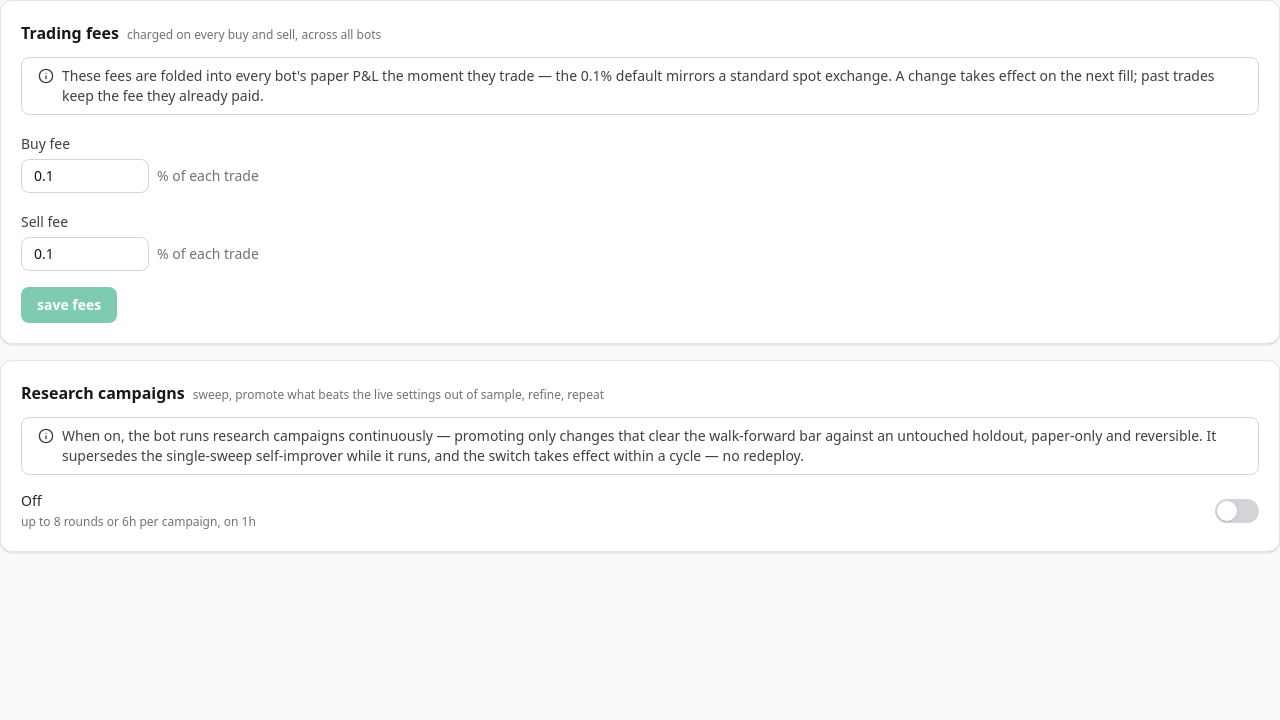
Test: SettingsScreen › toggles the research-campaign loop on
Click the switch named "Research campaigns": (1237, 511) [1215,499,1259,523]
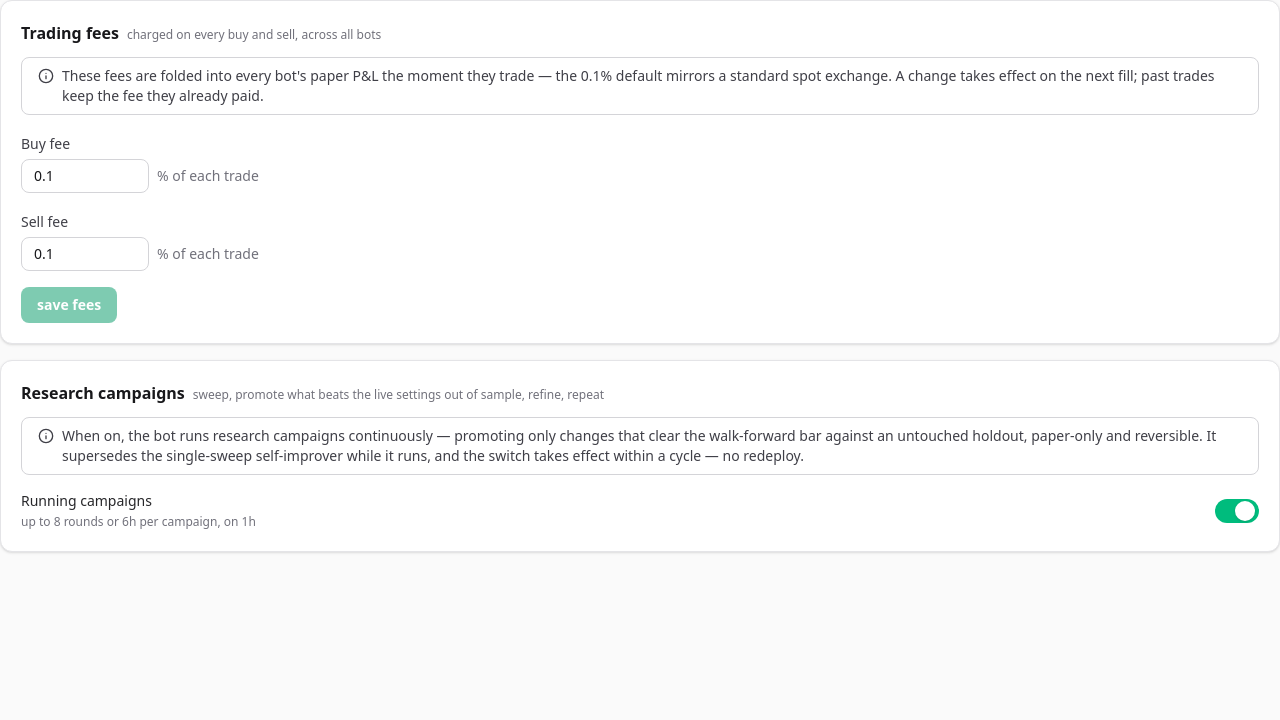
Check: the text "Running campaigns" is shown, box [21,491,152,510]
